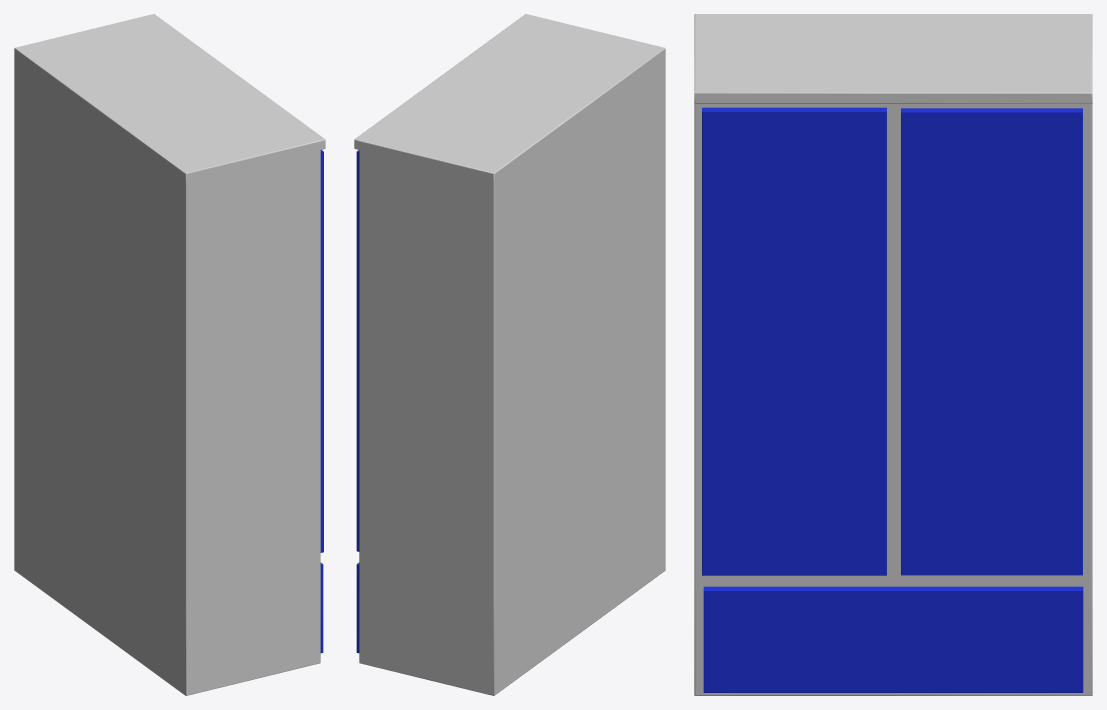
The model's file is wardrobe.fbx.
3 views of the same model, side by side, from view 1: azimuth 30°, elevation 25°; view 2: azimuth 150°, elevation 25°; view 3: azimuth 270°, elevation 25° (orthographic). The views are drawn at different scales.
Visible parts, largest first — view 1: Cube; view 2: Cube; view 3: Cube.
Boxes of the visible parts, box(x1,y1,x2,y2) form: Cube: box(14, 14, 325, 695); Cube: box(354, 14, 665, 695); Cube: box(694, 14, 1092, 695).
Bounding box in the file's own units: 146 × 514 × 306.
